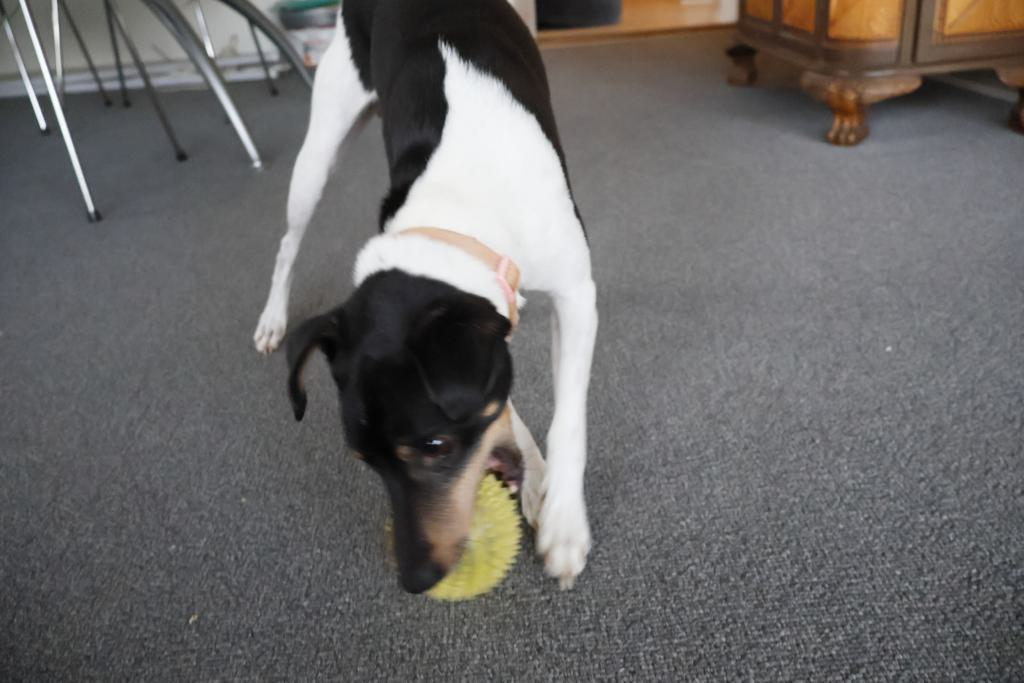Dog: (241, 0, 612, 614)
